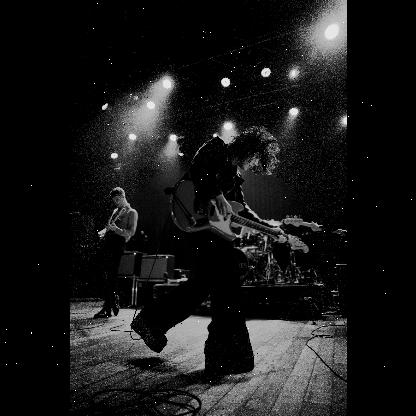guitar: (172, 176, 310, 258), (94, 206, 126, 248)
